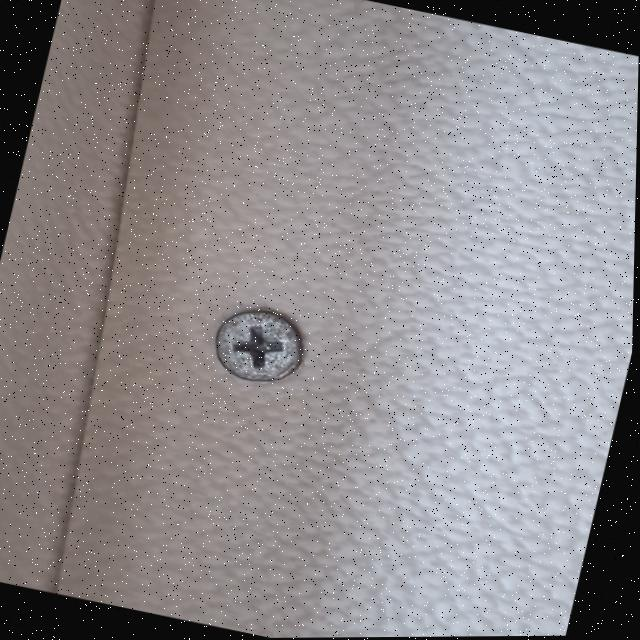Phillips: (190, 296, 318, 386)
